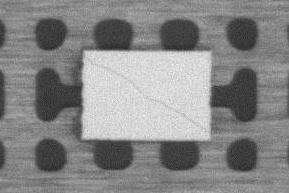DIE_CRACK: (83, 56, 202, 129)
